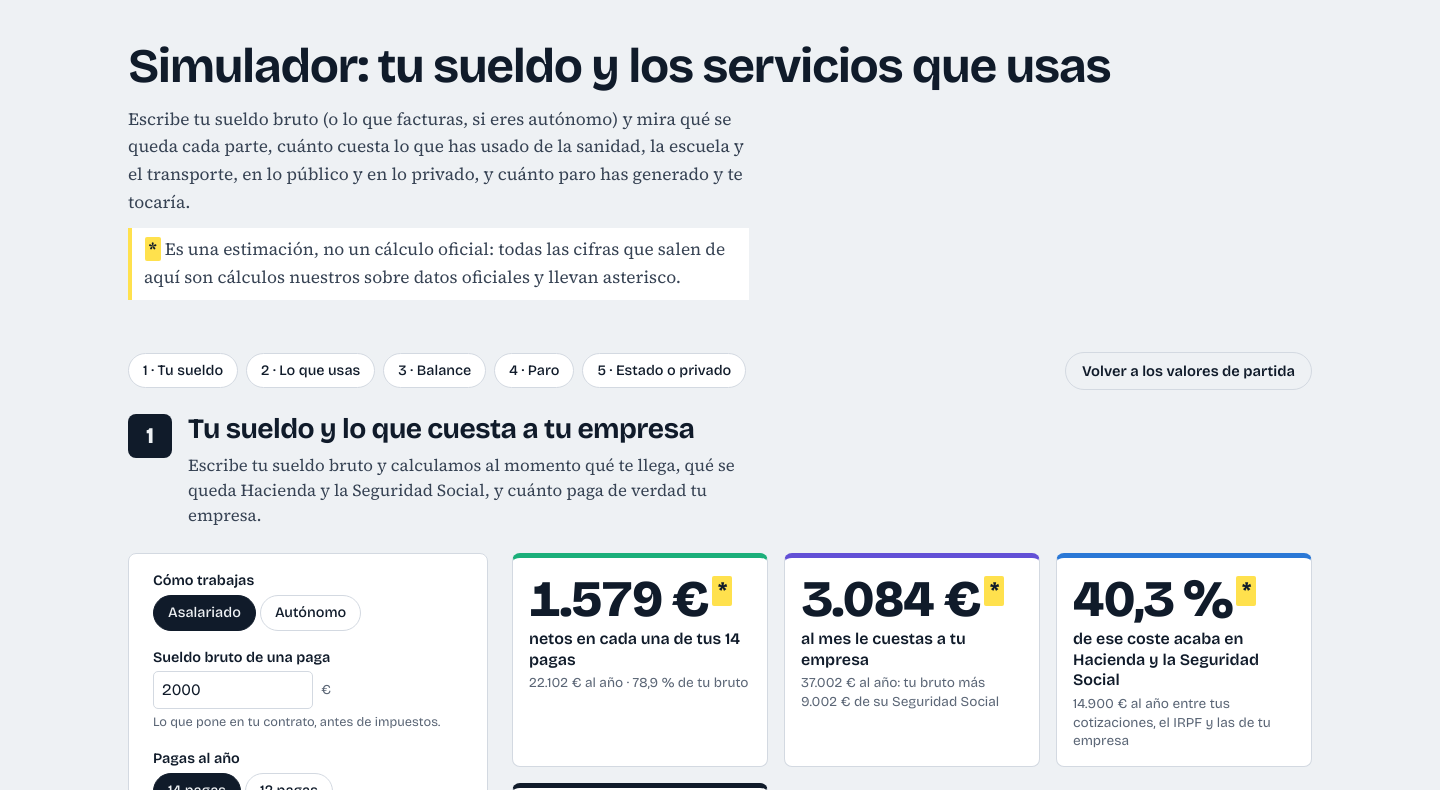
Test case: Simulador › autónomo: pasar a autónomo calcula la cuota por tramos y el IRPF de la actividad
Expected: the heading "Tu sueldo y lo que cuesta a tu empresa" is shown, [188, 414, 738, 445]
Click the radio button labelled "Autónomo" at x=311, y=613, box [260, 595, 361, 631]
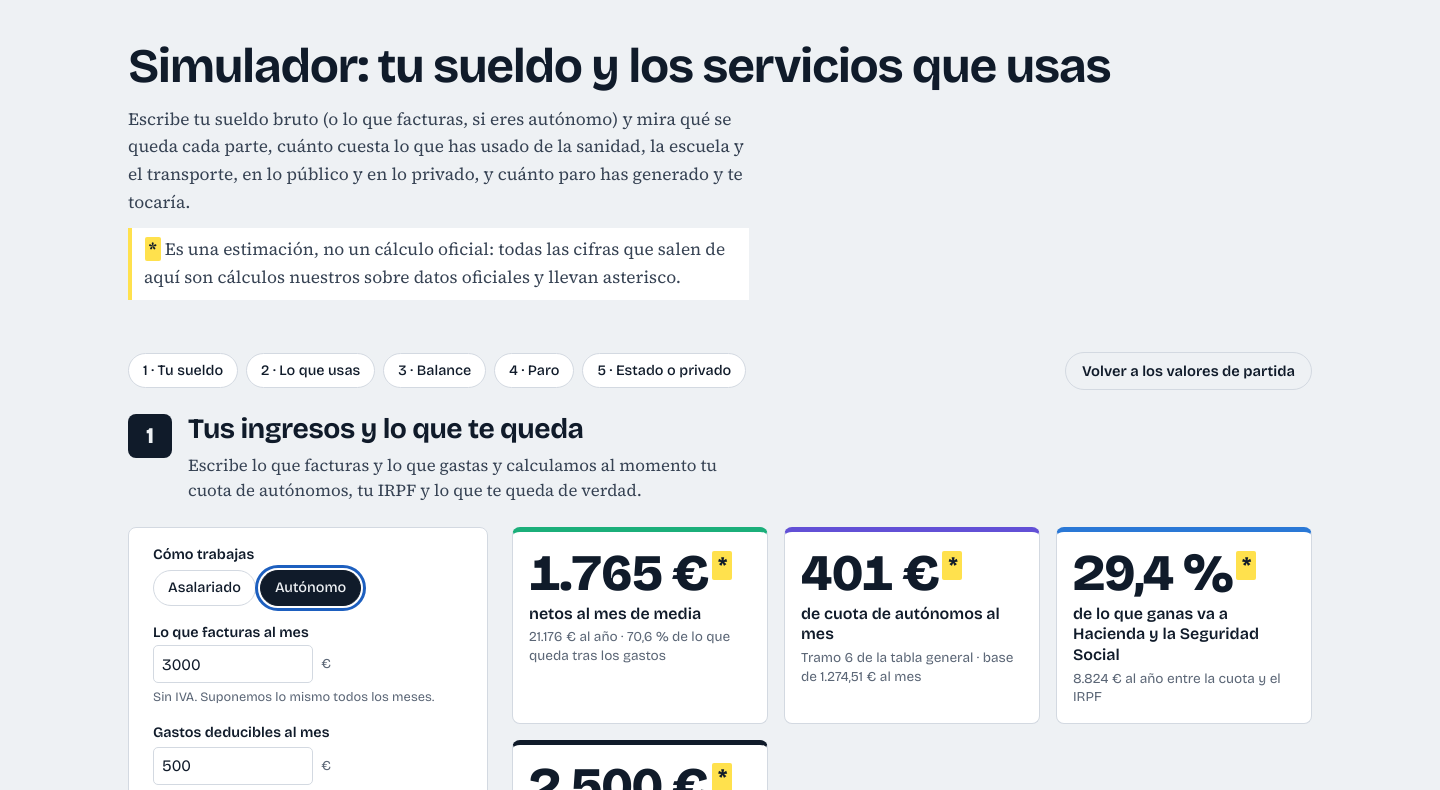
Now the heading "Tus ingresos y lo que te queda" is shown, box [188, 412, 583, 446]
Now the text "Tramo 6 de la tabla general · base de 1.274,51 € al mes" is shown, box [801, 649, 1023, 686]
Clear the number field labelled "Lo que facturas al mes" at x=233, y=665, box [153, 646, 313, 684]
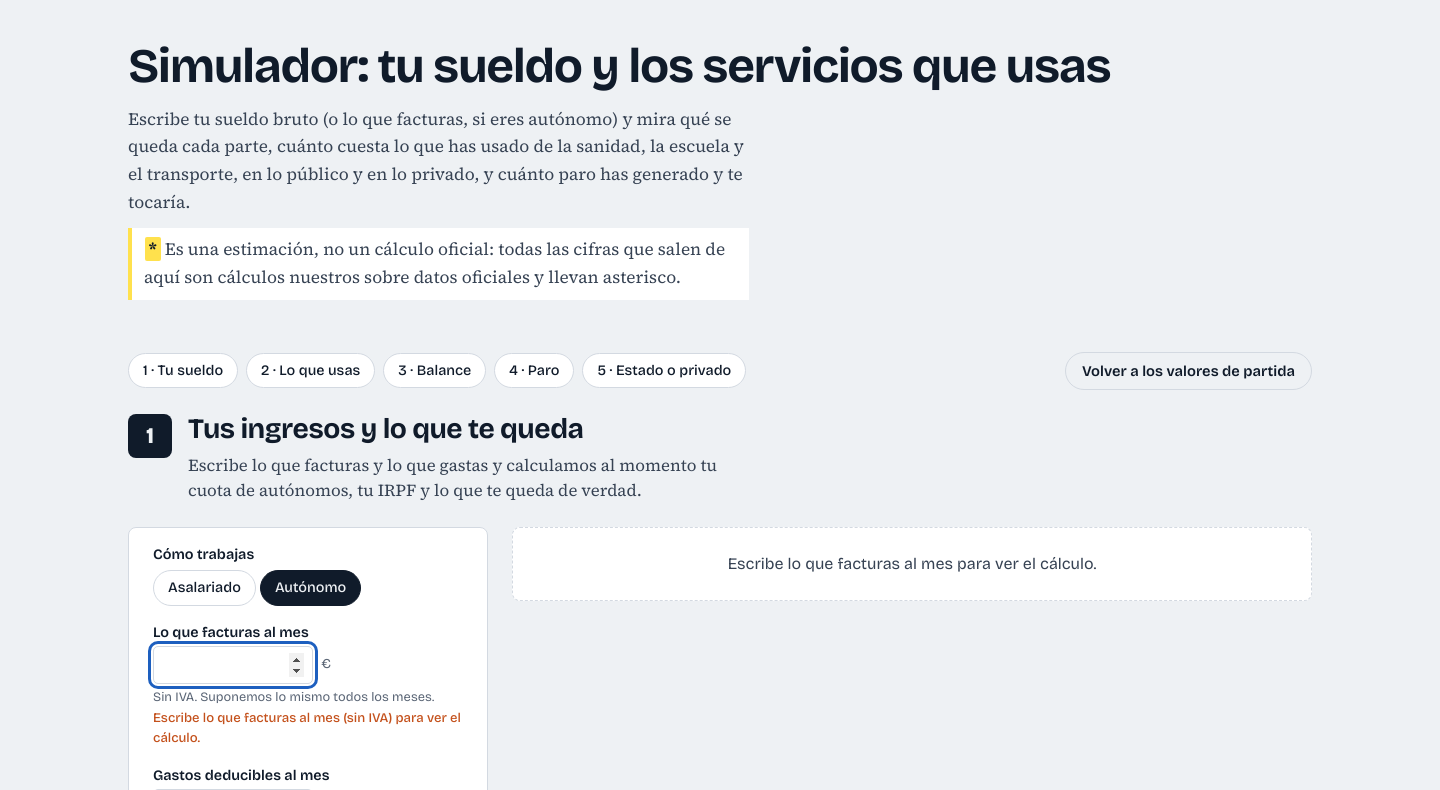
Now the text "Escribe lo que facturas al mes (sin IVA) para ver el cálculo." is shown, box [153, 709, 463, 749]
